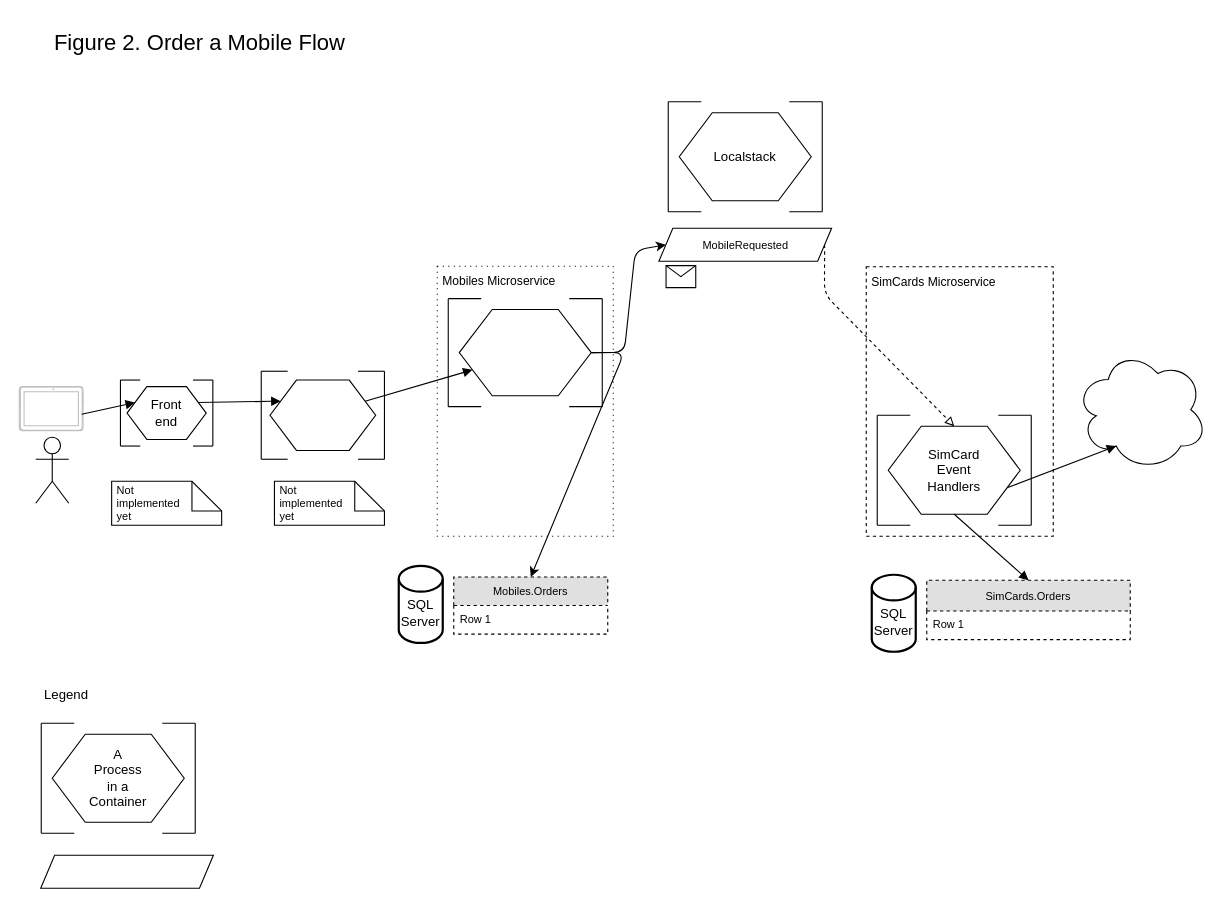
Image size: 1227x908. Some labels were removed from this diagram. The shapes that lost their labels are listed below. From the top down, each one's centre as x and y in pixels, then its label:
At (x=524, y=352): "Mobiles API".
At (x=322, y=414): "Back end for Front end".
At (x=1140, y=409): "External SimCards Provider API".
At (x=52, y=469): "User".
At (x=126, y=871): "A Message Topic".
